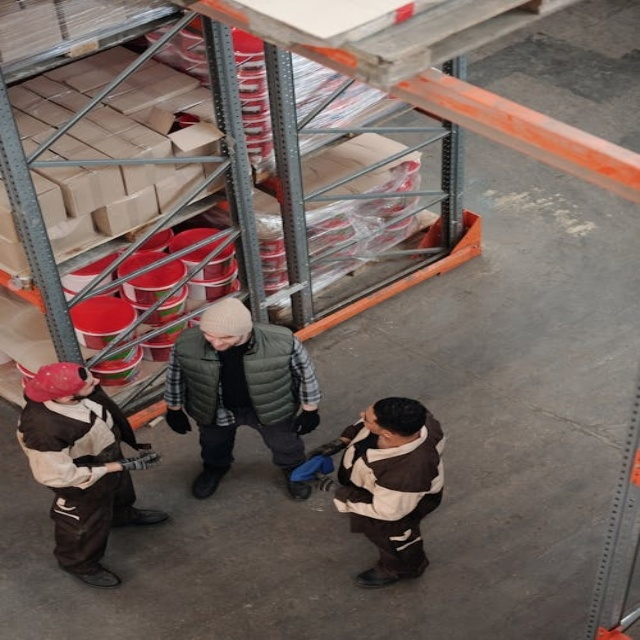Guantes: (119, 447, 166, 473), (294, 469, 338, 492), (160, 405, 193, 433), (289, 411, 323, 435), (303, 441, 342, 460)
